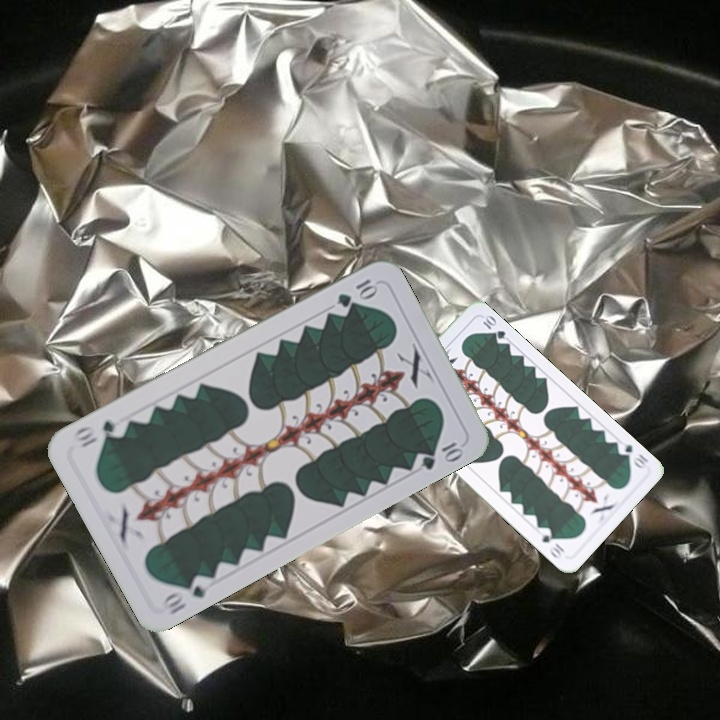G10: (159, 570, 215, 618), (333, 275, 380, 310), (613, 437, 651, 472)
